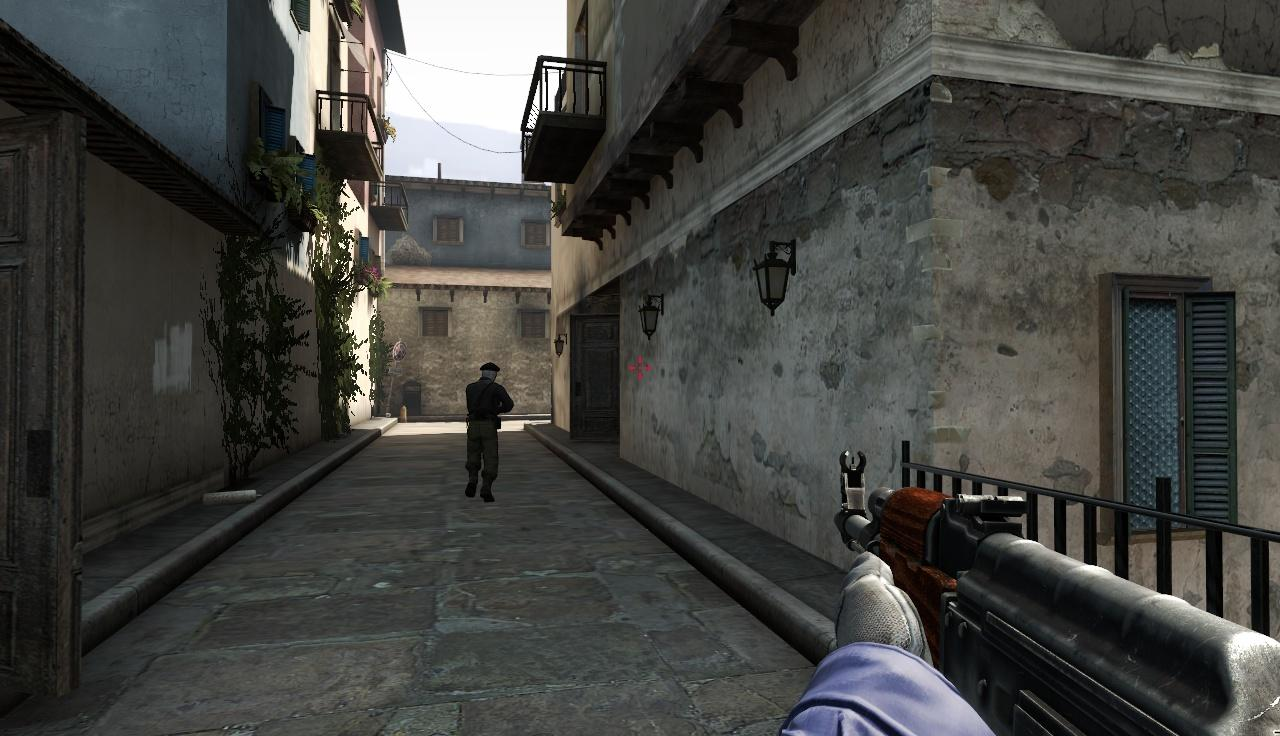rifle: (828, 450, 1280, 736)
tt: (466, 361, 502, 502)
tthead: (480, 363, 498, 382)
